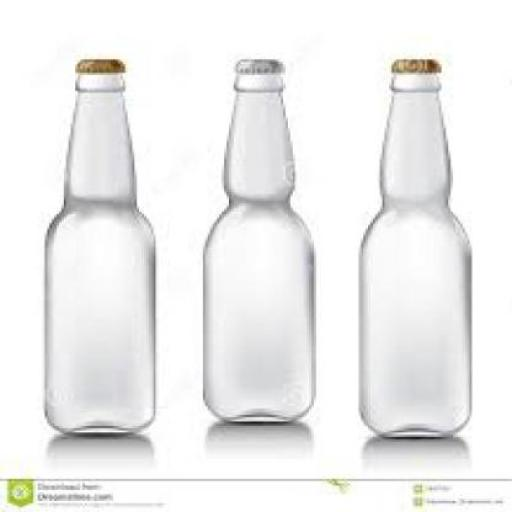glass: (354, 66, 472, 435), (201, 70, 316, 420), (45, 68, 153, 433)
metal: (389, 57, 437, 73), (233, 57, 281, 73), (71, 57, 120, 71)
